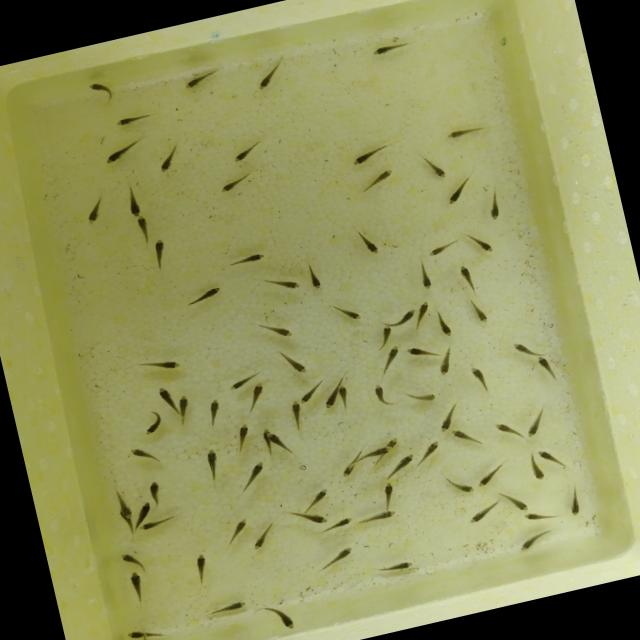fingerling: (96, 132, 152, 166), (258, 598, 304, 639), (249, 54, 292, 96), (310, 542, 364, 574), (344, 138, 394, 172), (513, 524, 562, 556), (253, 312, 296, 348), (412, 148, 451, 187), (354, 164, 400, 197), (364, 34, 414, 64), (176, 65, 226, 94), (231, 458, 271, 494), (472, 456, 514, 489), (180, 282, 229, 310), (78, 191, 114, 229), (150, 142, 186, 178), (138, 350, 184, 378), (276, 345, 310, 382), (246, 521, 284, 554), (126, 439, 164, 472), (374, 554, 422, 580), (222, 248, 270, 274), (214, 168, 258, 196), (228, 135, 269, 165), (200, 594, 251, 618), (442, 176, 478, 210), (185, 550, 217, 588), (261, 270, 304, 298), (354, 222, 384, 262), (440, 121, 489, 145), (463, 498, 502, 528), (328, 296, 367, 326), (118, 181, 148, 220), (448, 422, 486, 452), (464, 360, 494, 398), (536, 441, 570, 474), (518, 406, 552, 439), (441, 467, 476, 499), (480, 188, 510, 225), (354, 506, 402, 529), (498, 486, 532, 518), (411, 438, 447, 468), (84, 75, 120, 105), (562, 482, 590, 520), (242, 380, 274, 413), (463, 226, 496, 258), (136, 408, 170, 439), (146, 236, 175, 272), (412, 256, 440, 293), (199, 446, 226, 484), (404, 384, 442, 411), (374, 342, 406, 374), (430, 400, 460, 434), (110, 110, 156, 132), (424, 236, 466, 260), (123, 567, 151, 602), (222, 371, 264, 394), (489, 416, 526, 442), (532, 353, 560, 387), (382, 452, 417, 479), (222, 515, 252, 546), (301, 259, 326, 296), (520, 506, 562, 528), (300, 485, 335, 511), (466, 293, 492, 327), (318, 514, 358, 536), (228, 420, 255, 452), (432, 309, 458, 342), (130, 213, 156, 246), (377, 478, 403, 510), (295, 378, 327, 404), (202, 396, 228, 428), (403, 340, 440, 362), (508, 335, 538, 362), (455, 262, 479, 295), (524, 457, 550, 487), (369, 380, 393, 411), (121, 623, 164, 640), (116, 548, 146, 572), (137, 514, 177, 532), (266, 426, 290, 456), (155, 382, 177, 412), (144, 477, 168, 504), (114, 488, 134, 520), (299, 508, 329, 529), (358, 444, 394, 460), (132, 498, 156, 522), (434, 354, 458, 378), (392, 306, 418, 328), (336, 456, 361, 478), (286, 398, 304, 428), (334, 382, 352, 412), (374, 323, 396, 347), (321, 388, 341, 412), (175, 392, 194, 416), (415, 298, 434, 322)
